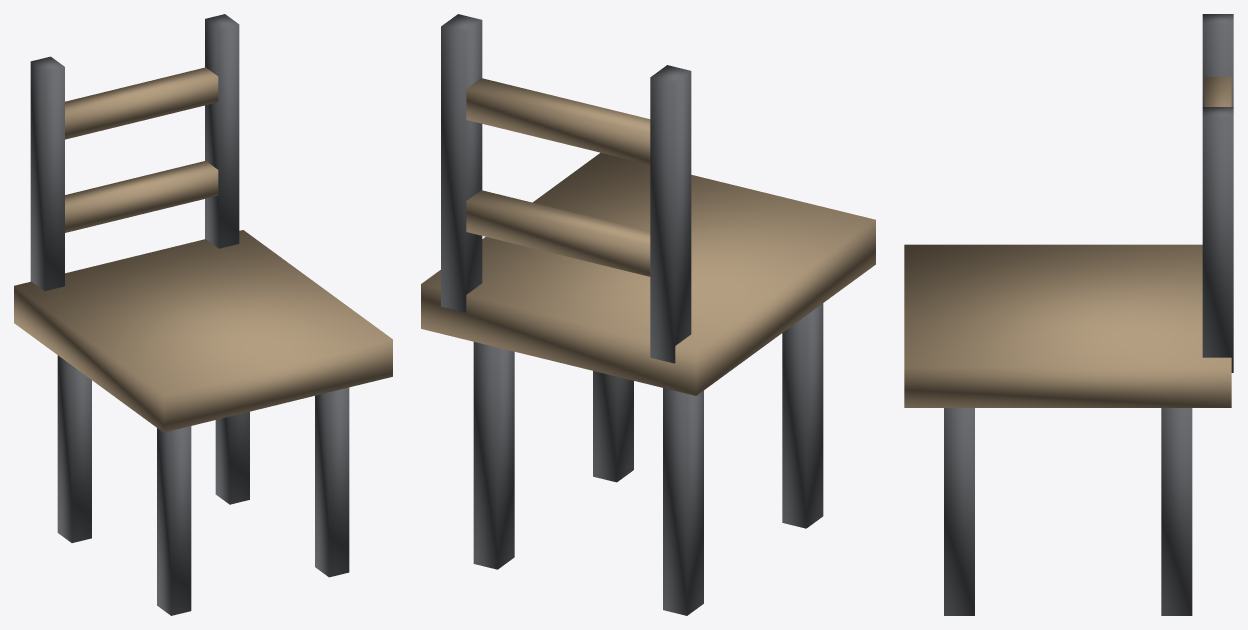
Rendered from dining_chair__deep.glb.
3 renders of one model, left to right at view 1: azimuth 30°, elevation 25°; view 2: azimuth 150°, elevation 25°; view 3: azimuth 270°, elevation 25°, orthographic. The views are drawn at different scales.
Parts seen in each view (by area): view 1: world; view 2: world; view 3: world.
Part boxes in pixels (box(x1,y1,x2,y2)): world: box(14, 14, 392, 615); world: box(421, 14, 875, 615); world: box(904, 14, 1233, 615).
Size of the model in its own units: 0.5137 by 0.9841 by 0.5838.
